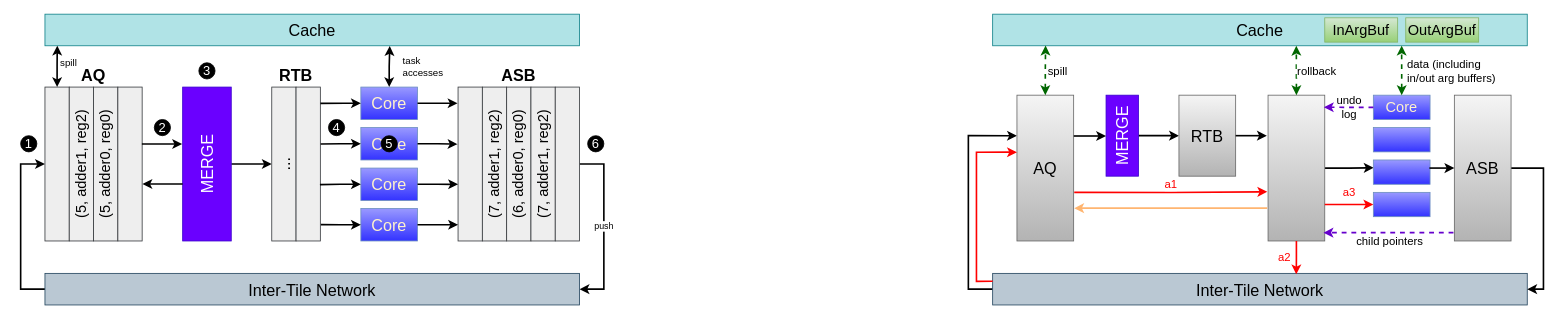
Some shapes in this 1564 by 319 pixel diagram are drawn without their labels. The shapes that lost their labels are listed below. From the top down, each one's centre as x and y in pixels, then its label:
At [56,163]: "(5, adder1, reg3)".
At [129,163]: "(5, adder0, reg1)".
At [307,163]: "(5, adder0, reg0,reg1)".
At [469,163]: "(6, adderOut, wire0)".
At [567,163]: "(7, adder1, reg3)".
At [1296,167]: "TCQ".
